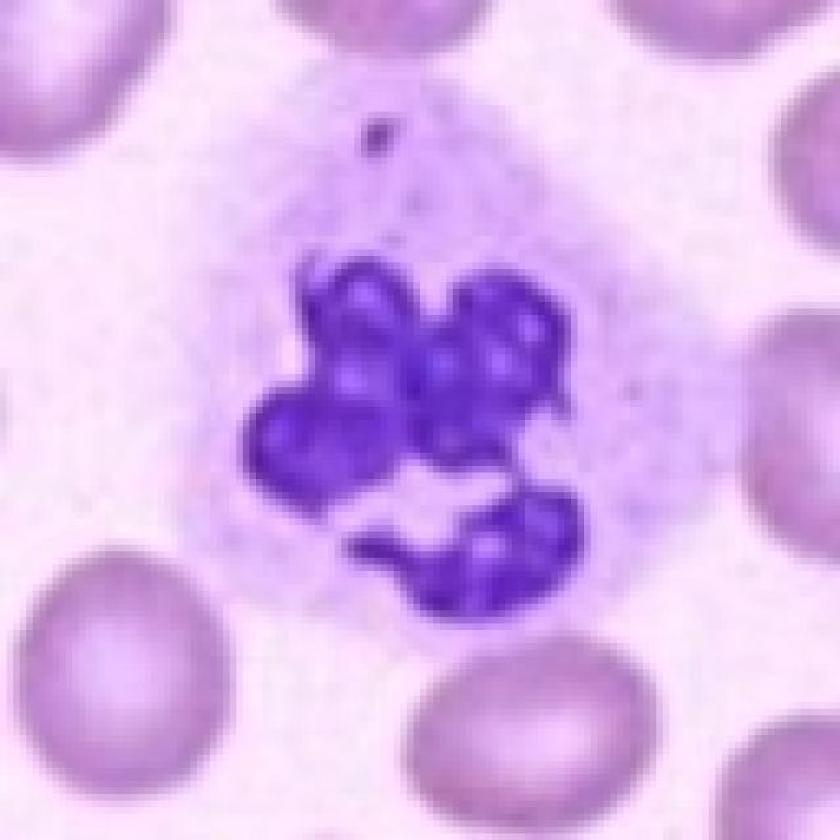neutrophil: (142, 63, 756, 659)
